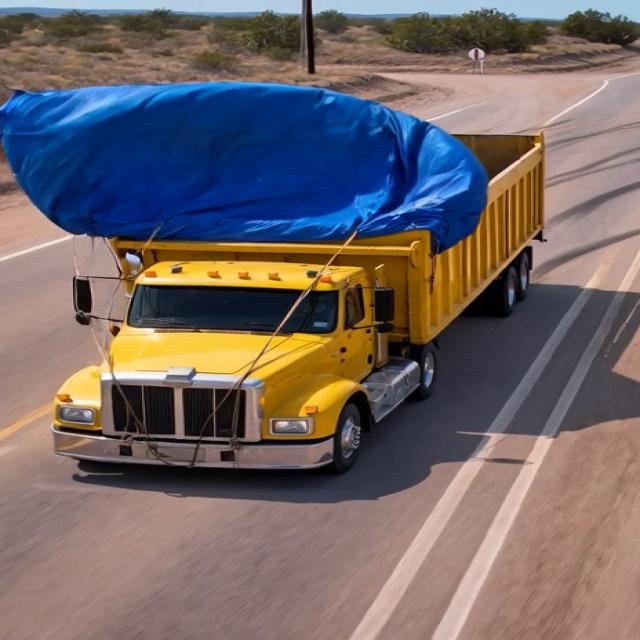Box: (115, 128, 551, 251)
Truck: (48, 97, 588, 474)
